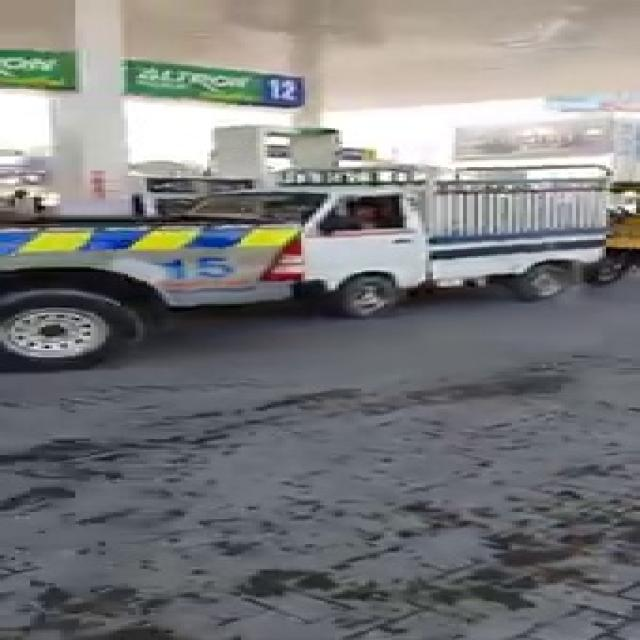police: (0, 208, 301, 370)
